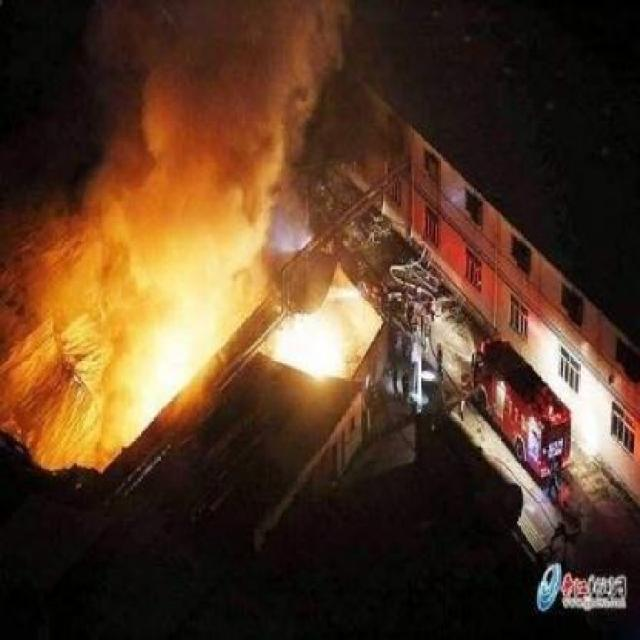Fire: (0, 0, 358, 477)
